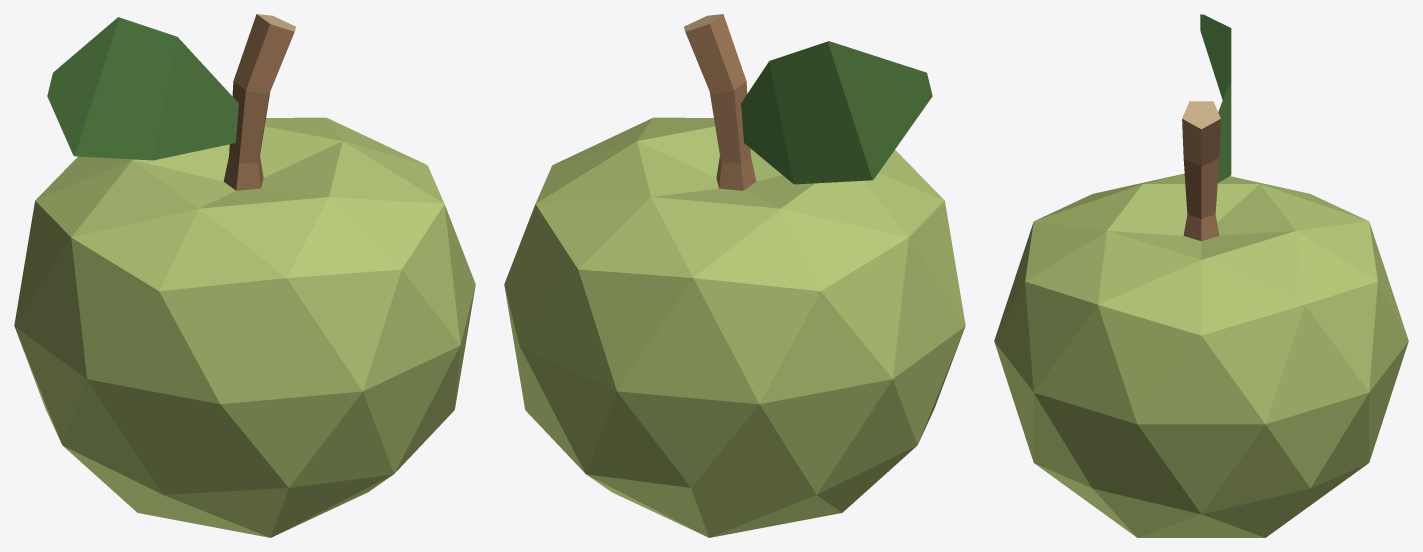
Rendered from GreenApple.fbx.
3 renders of one model, left to right at view 1: azimuth 30°, elevation 25°; view 2: azimuth 150°, elevation 25°; view 3: azimuth 270°, elevation 25°, orthographic. The views are drawn at different scales.
Visible parts, largest first — view 1: GreenApple; view 2: GreenApple; view 3: GreenApple.
Boxes of the visible parts, bbox=[...] form: GreenApple: bbox=[14, 14, 475, 537]; GreenApple: bbox=[504, 14, 965, 537]; GreenApple: bbox=[994, 14, 1408, 537].
Size of the model in its own units: 0.4024 by 0.501 by 0.42.
